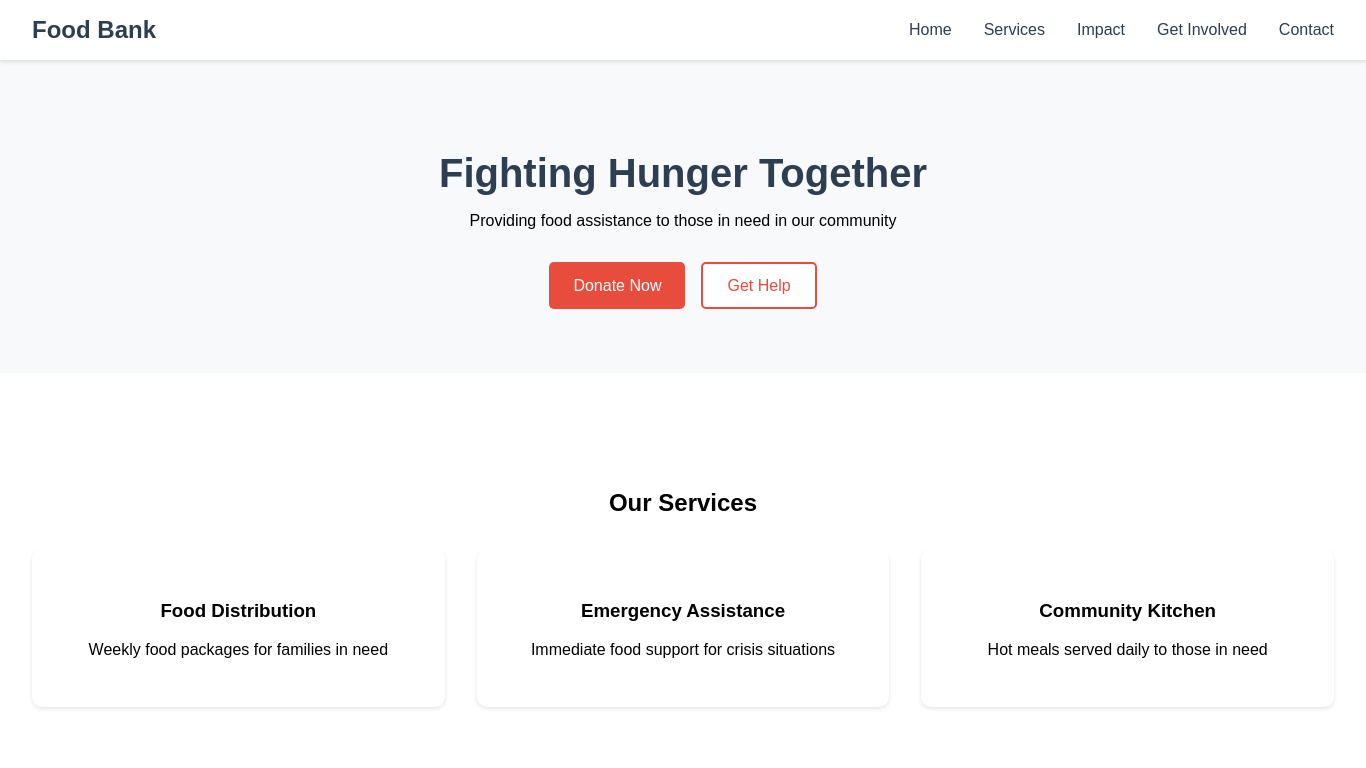
Scenario: Donate Now opens the donation modal and the close button closes it
What coordinates should you click on to do the following:
click the button "Donate Now"
I would click on:
 (617, 286)
Its box is [549,262,685,309].
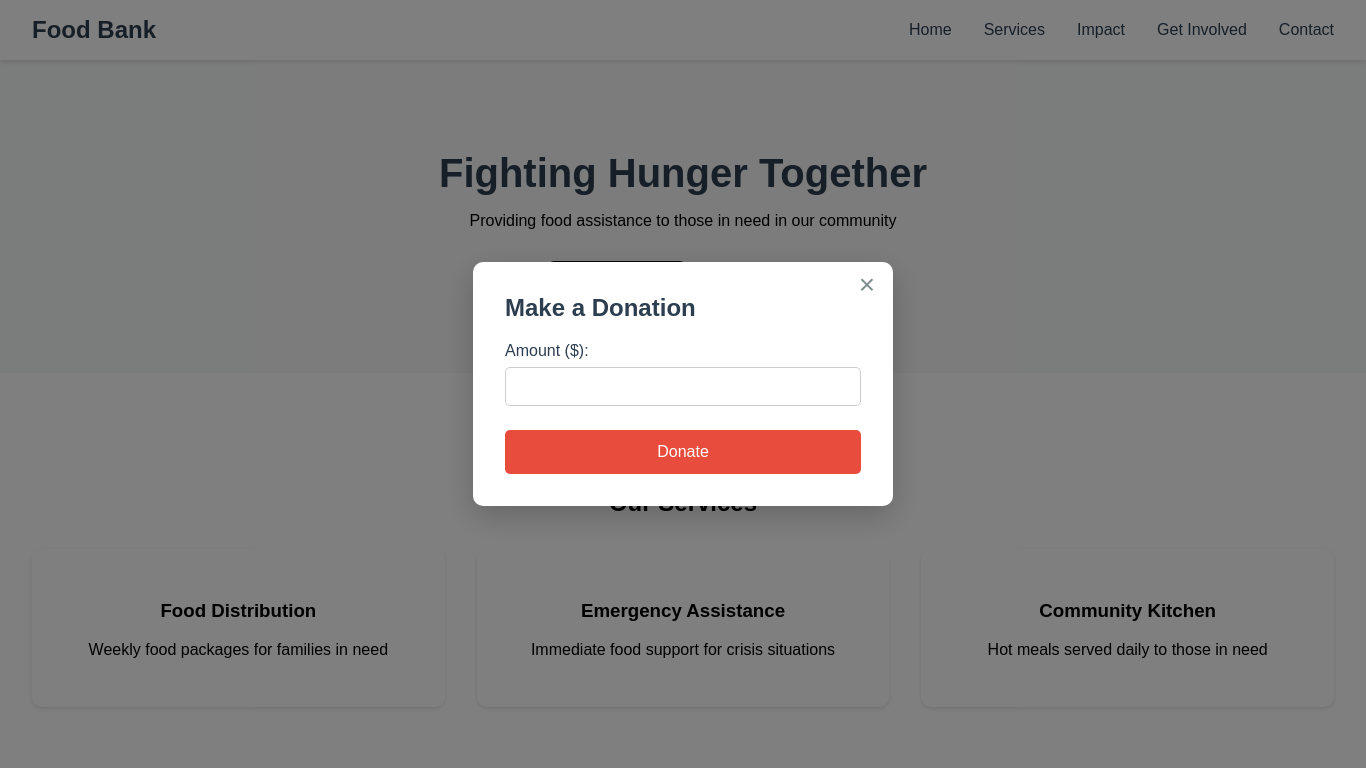
Expected: the dialog "× Make a Donation Amount ($): Donate" is shown, [473,262,893,506]
What coordinates should you click on to do the following:
click the button named "close"
I would click on:
 (867, 286)
Its box is [853,270,881,300].
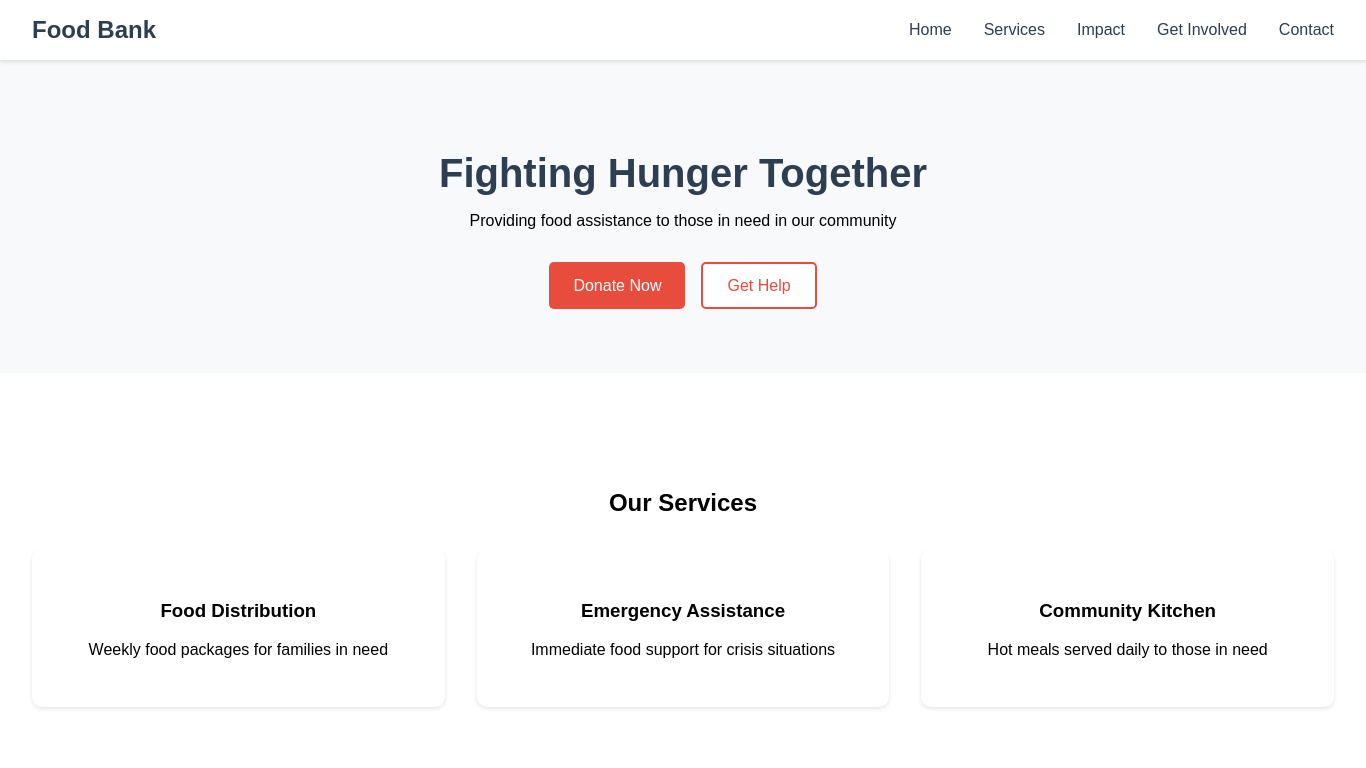
Expected: the dialog is gone
